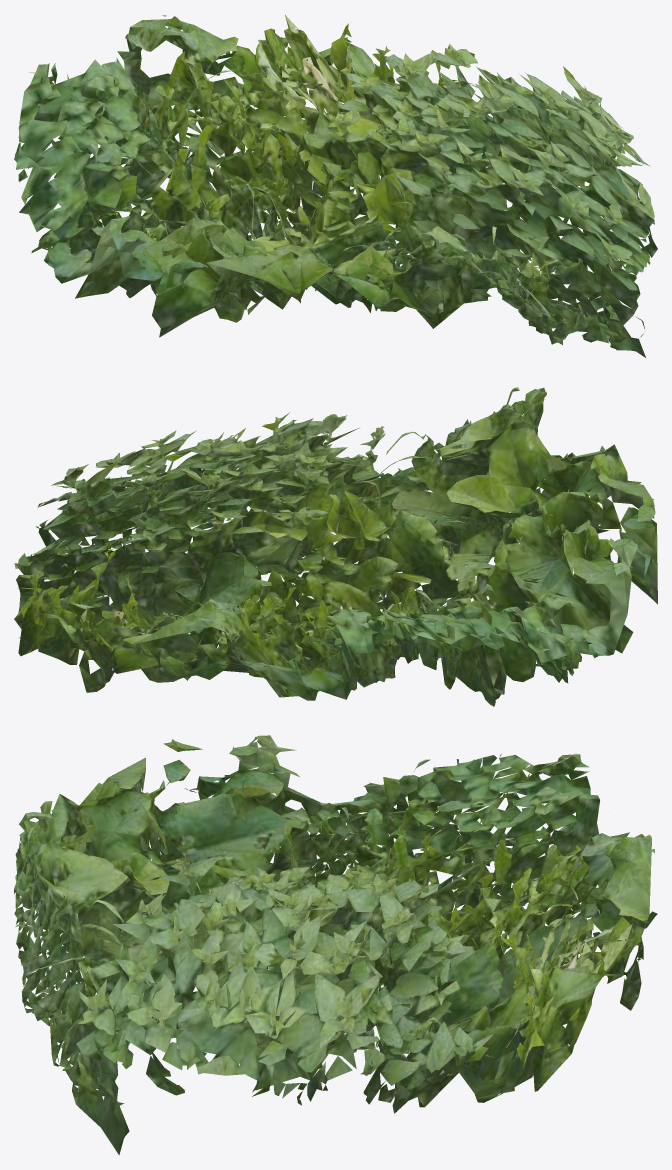
Rendered from grass.glb.
The picture shows the model from 3 angles, top to bottom: view 1: azimuth 30°, elevation 25°; view 2: azimuth 150°, elevation 25°; view 3: azimuth 270°, elevation 25°; orthographic projection.
Parts seen in each view (by area): view 1: Tile_3_0 (×2), Tile_2_0 (×2), Tile_2_1; view 2: Tile_3_0 (×2), Tile_2_0 (×2), Tile_2_1; view 3: Tile_3_0 (×2), Tile_2_0 (×2), Tile_2_1, Tile_1_0 (×2).
Part boxes in pixels (left/top/right/bottom): Tile_3_0 (×2): left=43, top=67, right=657, bottom=357; Tile_2_0 (×2): left=14, top=15, right=575, bottom=246; Tile_2_1: left=18, top=16, right=526, bottom=253; Tile_3_0 (×2): left=54, top=387, right=657, bottom=706; Tile_2_0 (×2): left=14, top=467, right=570, bottom=700; Tile_2_1: left=19, top=469, right=576, bottom=696; Tile_3_0 (×2): left=14, top=735, right=390, bottom=1154; Tile_2_0 (×2): left=360, top=753, right=654, bottom=1113; Tile_2_1: left=366, top=753, right=657, bottom=1092; Tile_1_0 (×2): left=246, top=1029, right=424, bottom=1104.
Size of the model in its own units: 20.28 by 7.87 by 20.14.
Materials: 6 (6 with a texture image).
